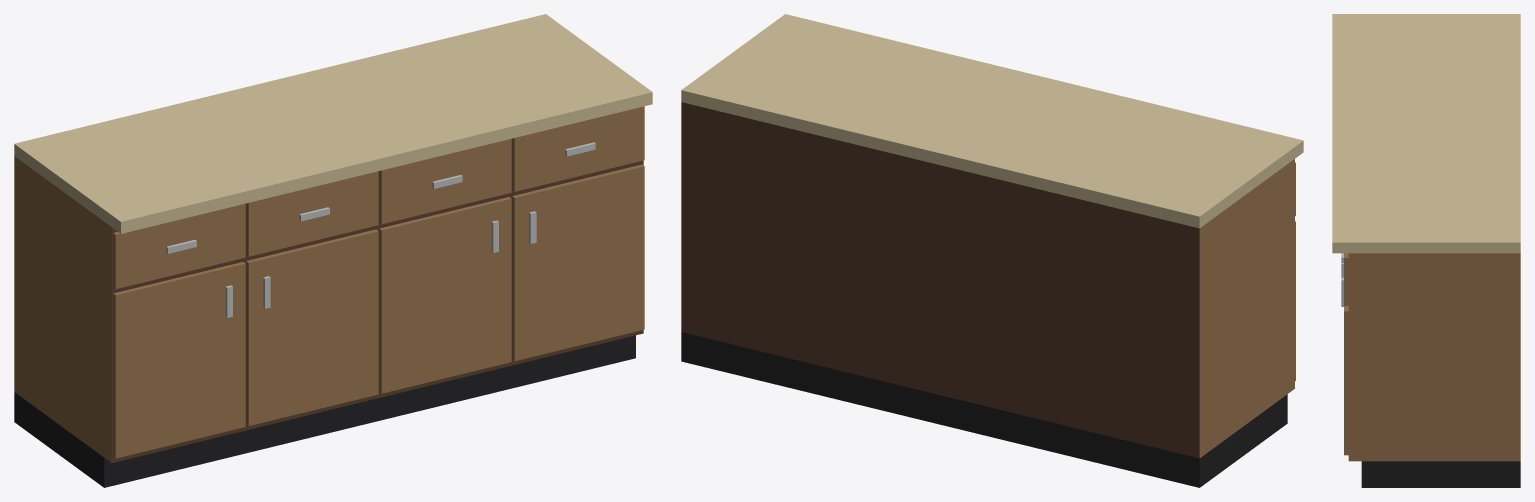
Rendered from counter.glb.
3 renders of one model, left to right at view 1: azimuth 30°, elevation 25°; view 2: azimuth 150°, elevation 25°; view 3: azimuth 270°, elevation 25°, orthographic. The views are drawn at different scales.
Visible parts, largest first — view 1: counter; view 2: counter; view 3: counter.
Part boxes in pixels (box(x1,y1,x2,y2)): counter: box(14, 14, 652, 487); counter: box(681, 14, 1303, 487); counter: box(1332, 14, 1520, 487).
Size of the model in its own units: 1.84 by 0.92 by 0.64.
